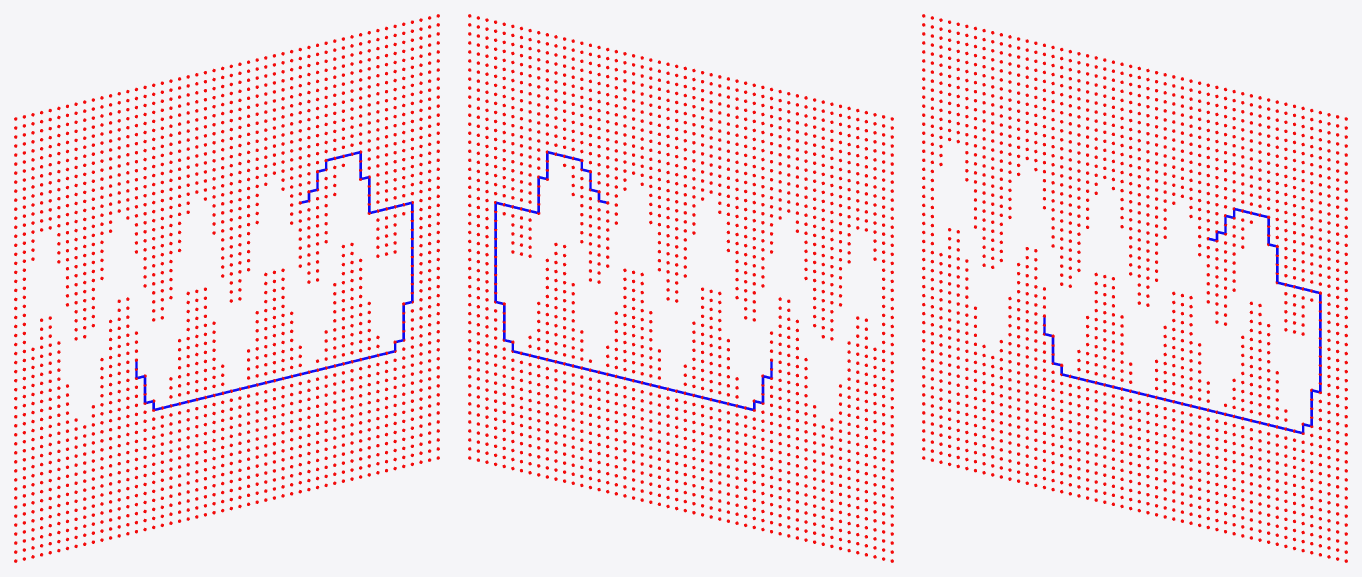
File: AStarPathFinding.glb
3 renders of one model, left to right at view 1: azimuth 30°, elevation 25°; view 2: azimuth 150°, elevation 25°; view 3: azimuth 330°, elevation 25°, orthographic.
Bounding box in the file's own units: 1.01 × 1.01 × 0.00681.
